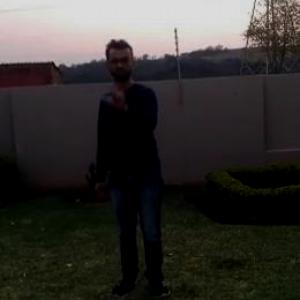land_hand: (100, 75, 133, 115)
